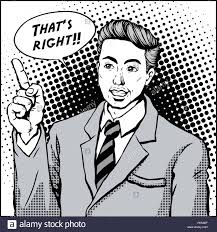hand: (2, 60, 52, 134)
